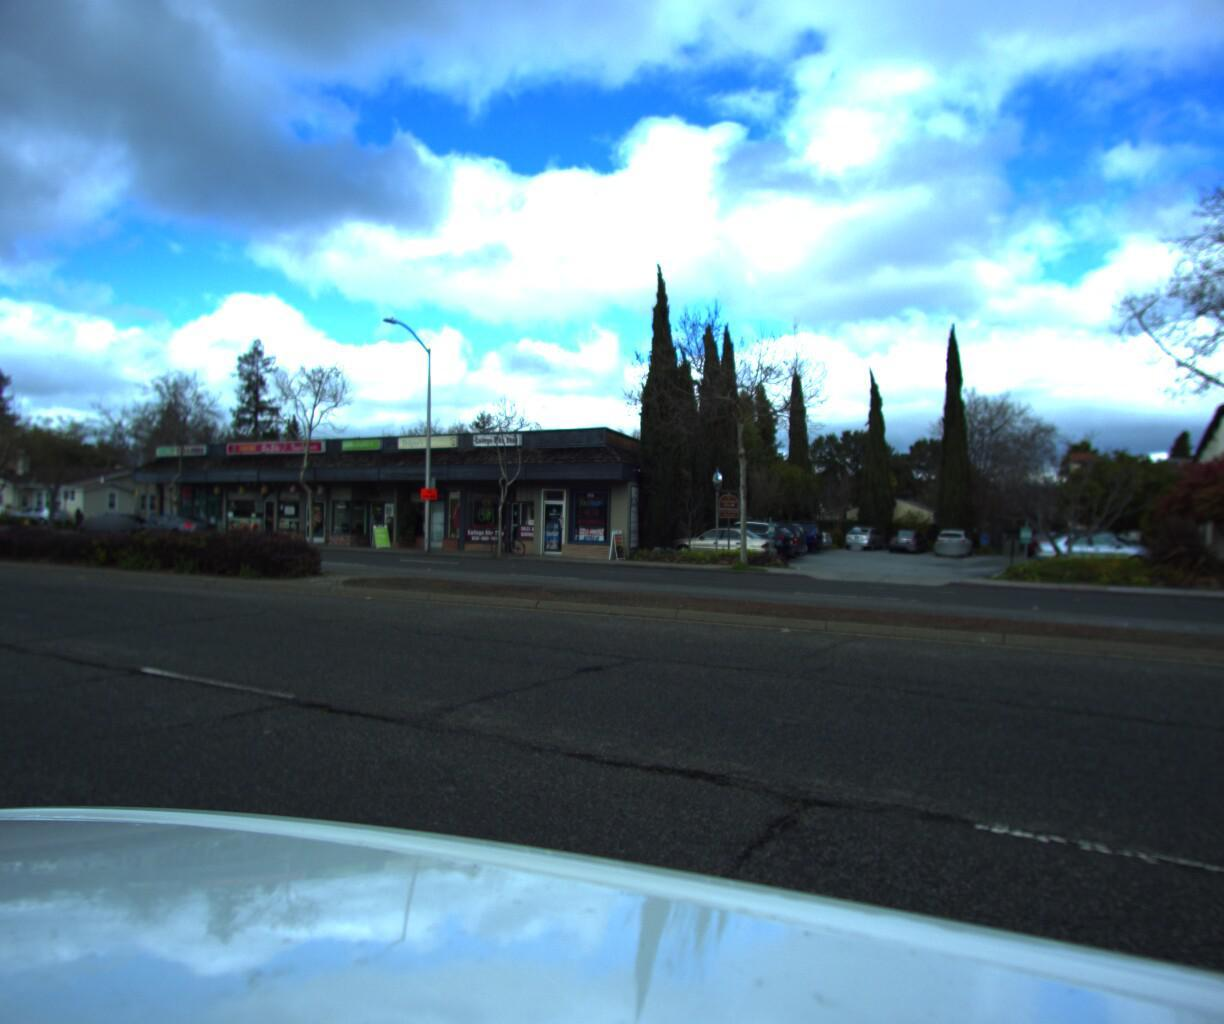bicycle: (484, 527, 529, 553)
car: (655, 518, 782, 564), (679, 513, 799, 559), (698, 514, 811, 556), (126, 508, 225, 543), (68, 505, 154, 539), (1, 499, 74, 523)
